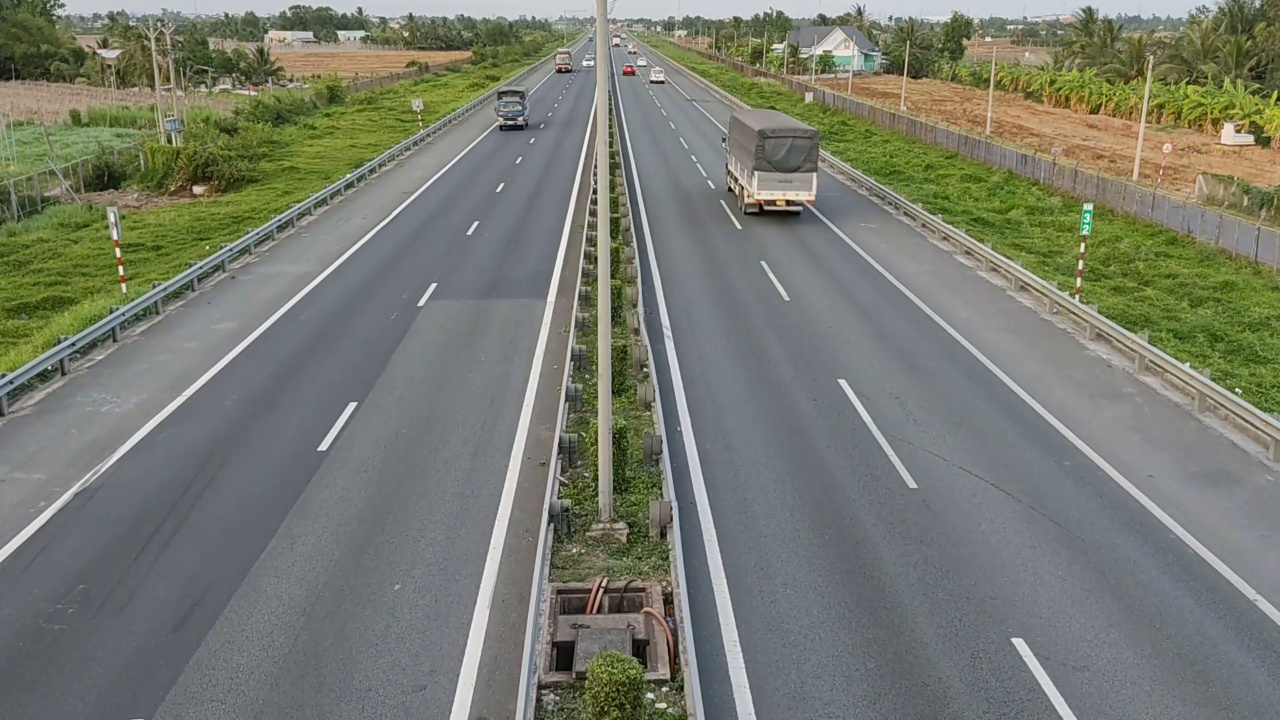car: (649, 67, 667, 84)
truck: (718, 102, 827, 225)
